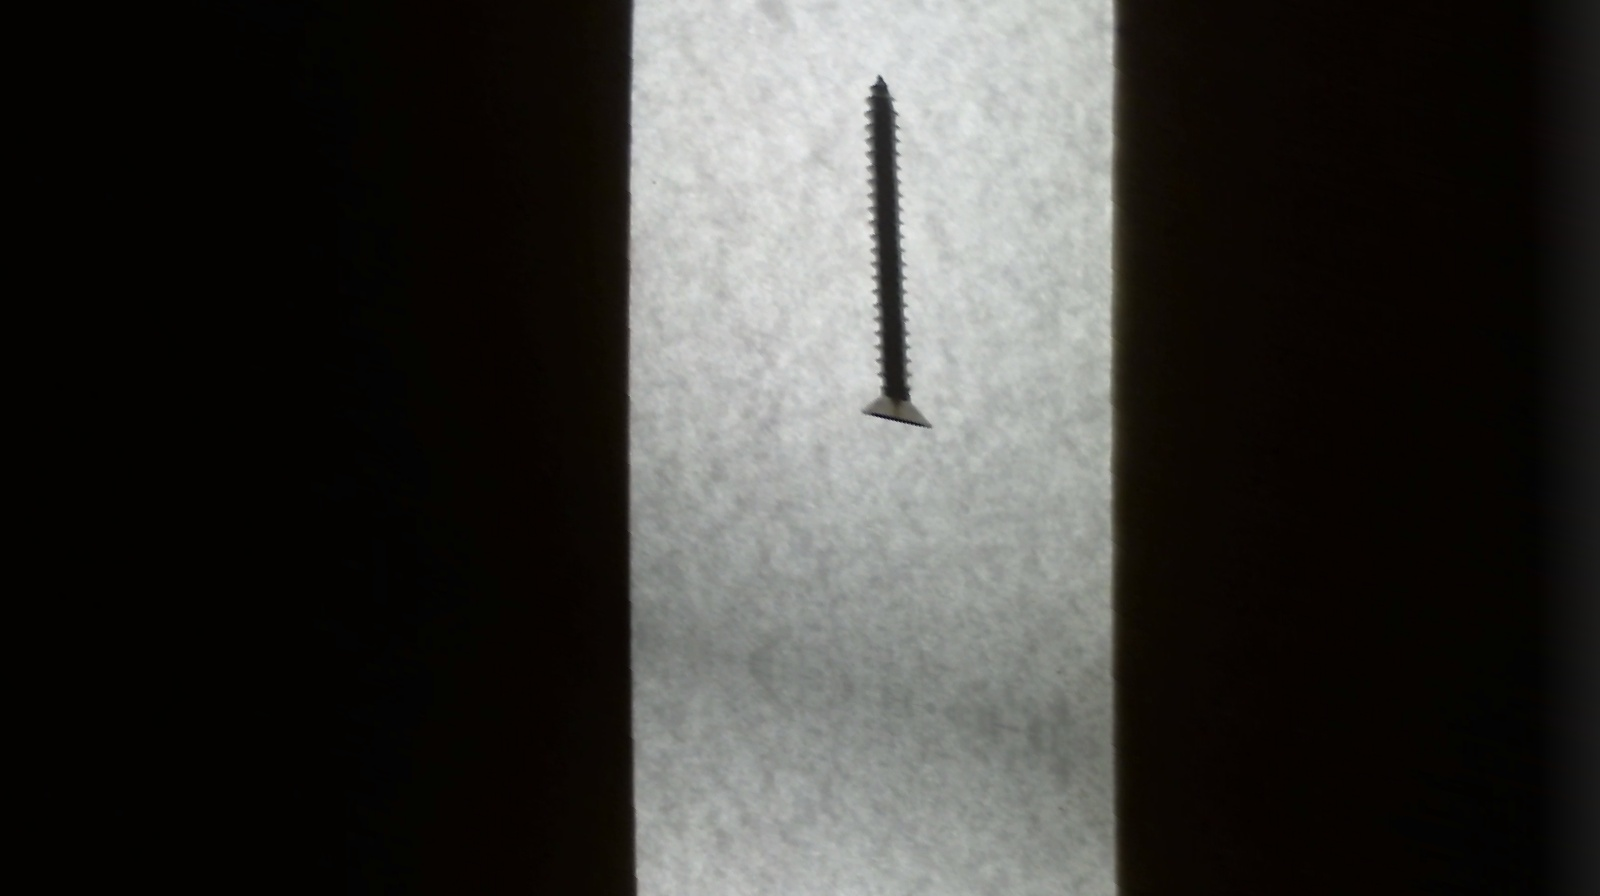S002: (823, 53, 966, 454)
